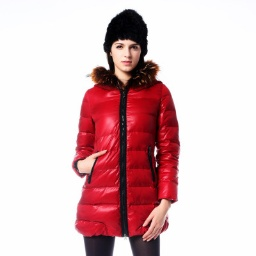face: (94, 20, 160, 91)
